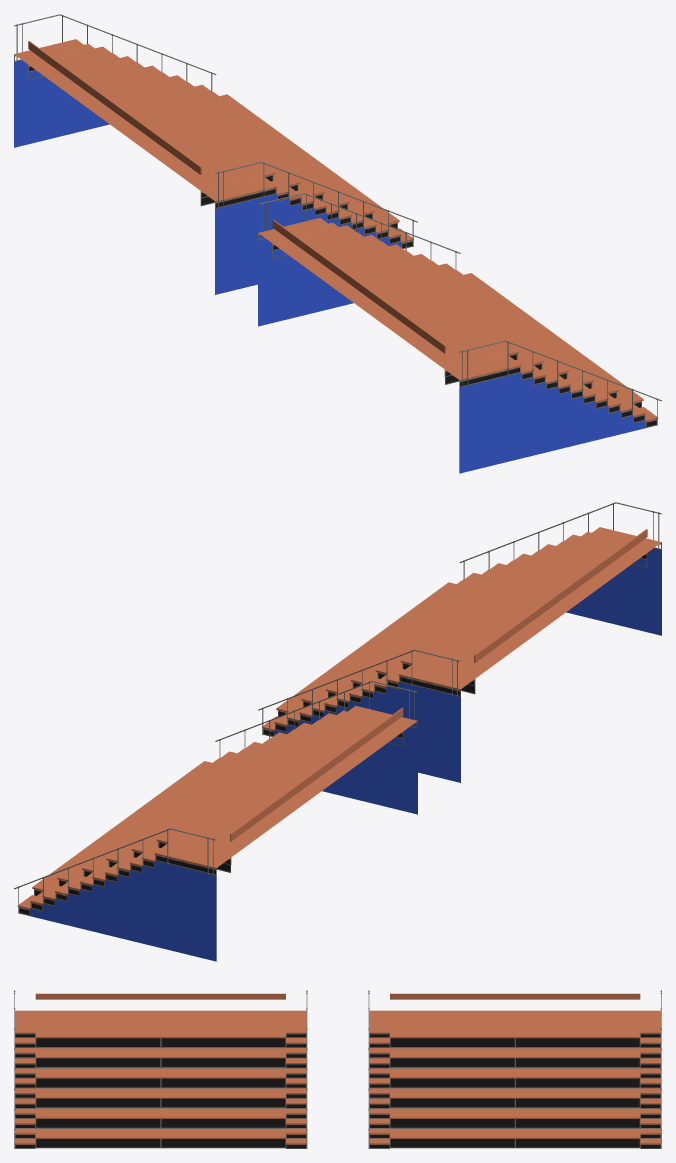
File: railing.fbx
3 renders of one model, top to bottom at view 1: azimuth 30°, elevation 25°; view 2: azimuth 150°, elevation 25°; view 3: azimuth 270°, elevation 25°, orthographic. The views are drawn at different scales.
Parts seen in each view (by area): view 1: stairs, railing; view 2: stairs, railing; view 3: stairs, railing.
Boxes of the visible parts, x1,y1,x2,y2 form: stairs: [14, 39, 656, 473]; railing: [14, 14, 661, 425]; stairs: [19, 527, 661, 961]; railing: [14, 502, 661, 913]; stairs: [15, 993, 660, 1148]; railing: [14, 990, 661, 1148].
Size of the model in its own units: 8.14 by 4.71 by 31.08.
